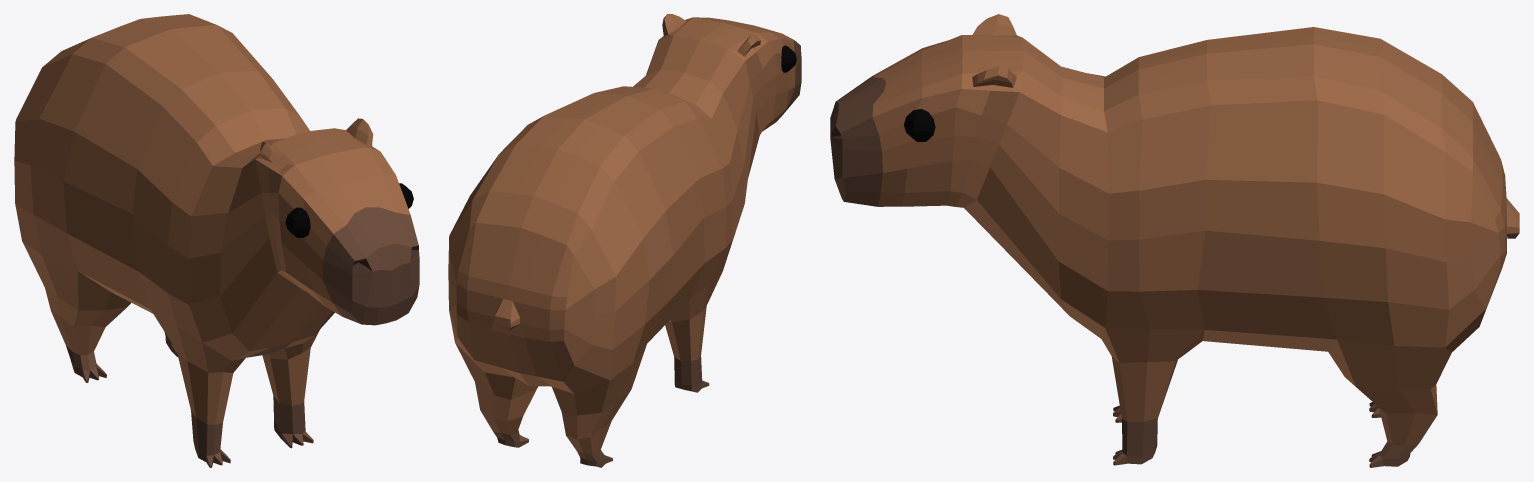
Rendered from capybaraBon.fbx.
3 renders of one model, left to right at view 1: azimuth 30°, elevation 25°; view 2: azimuth 150°, elevation 25°; view 3: azimuth 270°, elevation 25°, orthographic. The views are drawn at different scales.
Visible parts, largest first — view 1: Capy; view 2: Capy; view 3: Capy.
Part boxes in pixels (box(x1,y1,x2,y2)): Capy: box(14, 14, 419, 467); Capy: box(448, 14, 801, 467); Capy: box(830, 14, 1519, 467).
Size of the model in its own units: 174 by 281 by 440.
